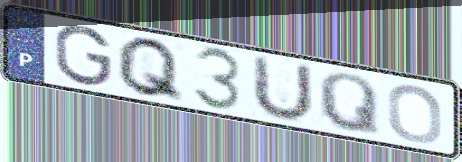3: (190, 45, 243, 114)
G: (52, 24, 114, 87)
O: (385, 83, 445, 145)
Q: (114, 35, 187, 106), (316, 71, 383, 139)
U: (249, 53, 316, 124)
